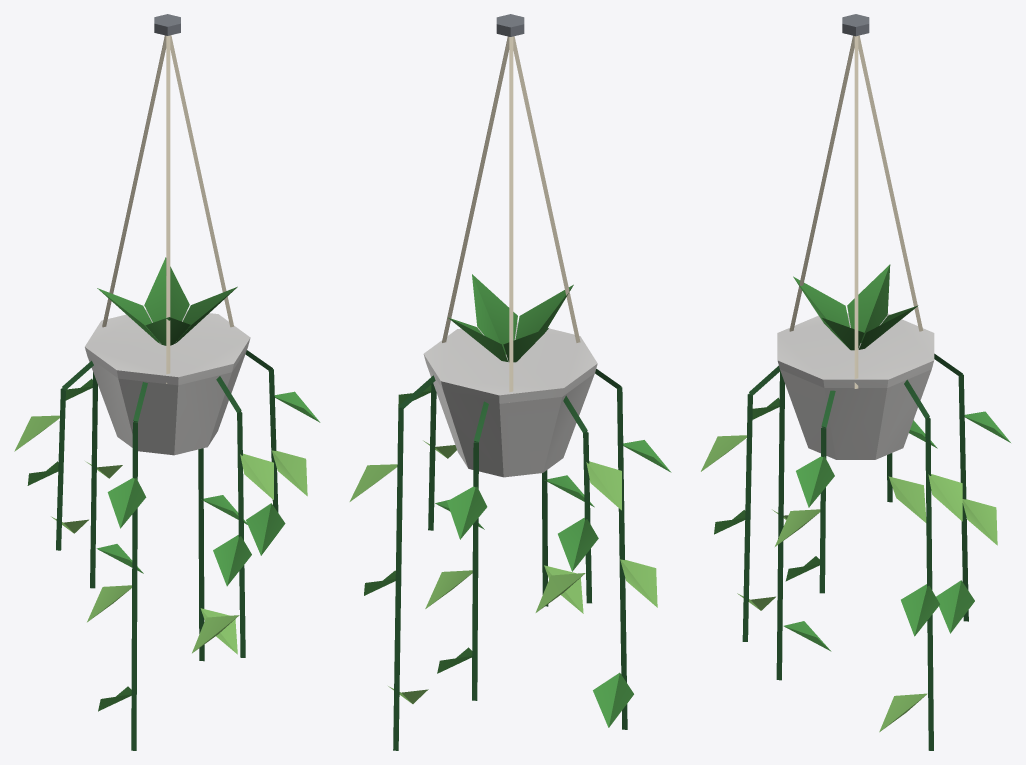
File: plant_hanging_01.glb
The picture shows the model from 3 angles, left to right: view 1: azimuth 30°, elevation 25°; view 2: azimuth 150°, elevation 25°; view 3: azimuth 270°, elevation 25°; orthographic projection. The views are drawn at different scales.
Visible parts, largest first — view 1: plant_hanging_01_mesh; view 2: plant_hanging_01_mesh; view 3: plant_hanging_01_mesh.
Boxes of the visible parts, x1,y1,x2,y2 form: plant_hanging_01_mesh: [14, 14, 320, 750]; plant_hanging_01_mesh: [349, 14, 671, 750]; plant_hanging_01_mesh: [701, 14, 1010, 750].
Size of the model in its own units: 0.5916 by 1.49 by 0.6054.
1 material, 1 textured.
